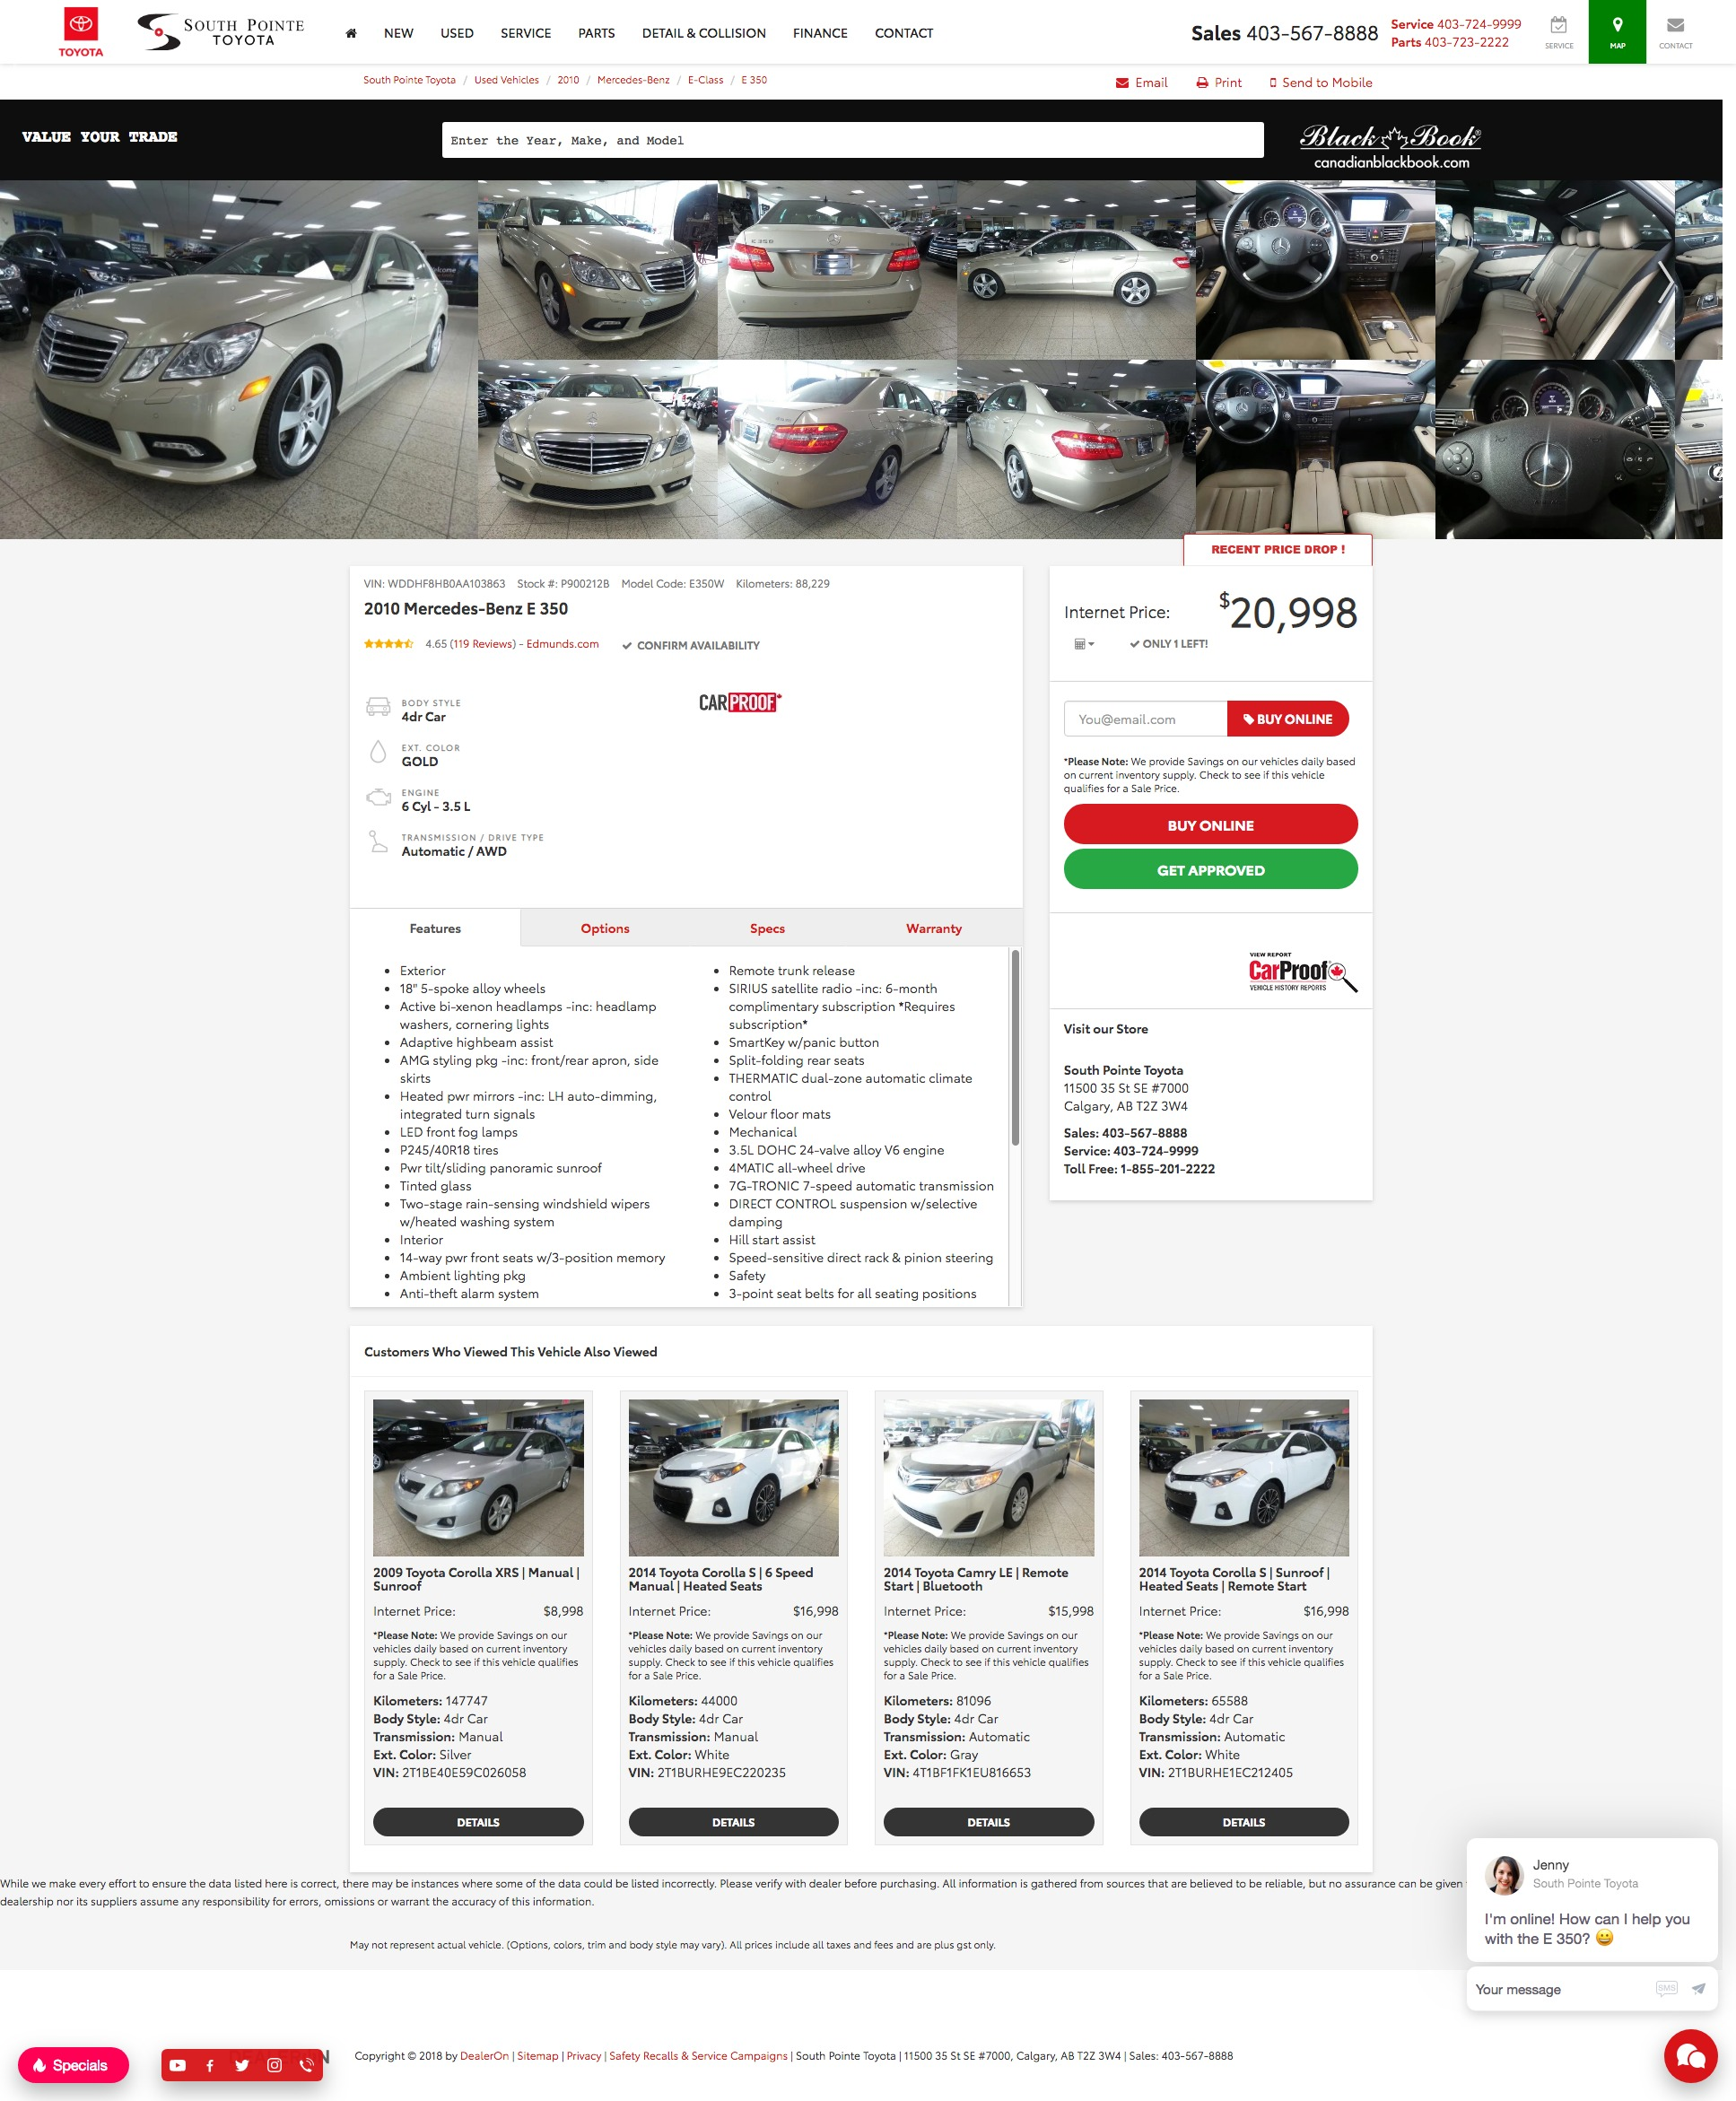car: (1657, 262, 1675, 305)
